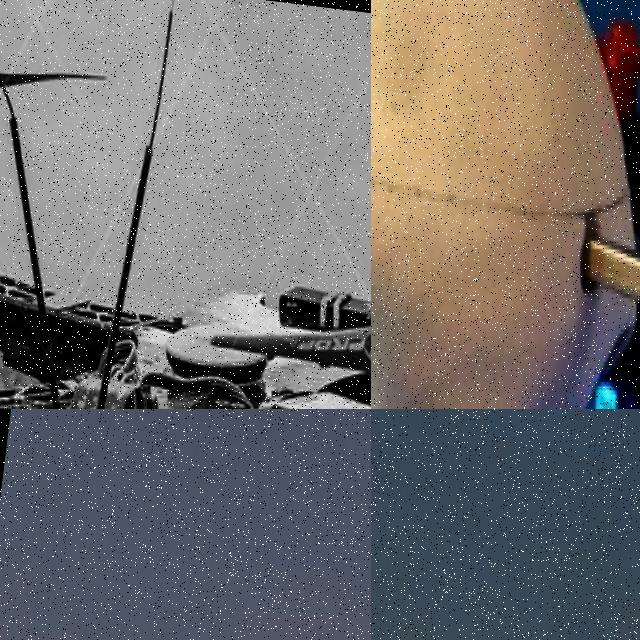drone: (0, 0, 371, 409), (371, 0, 640, 409)
